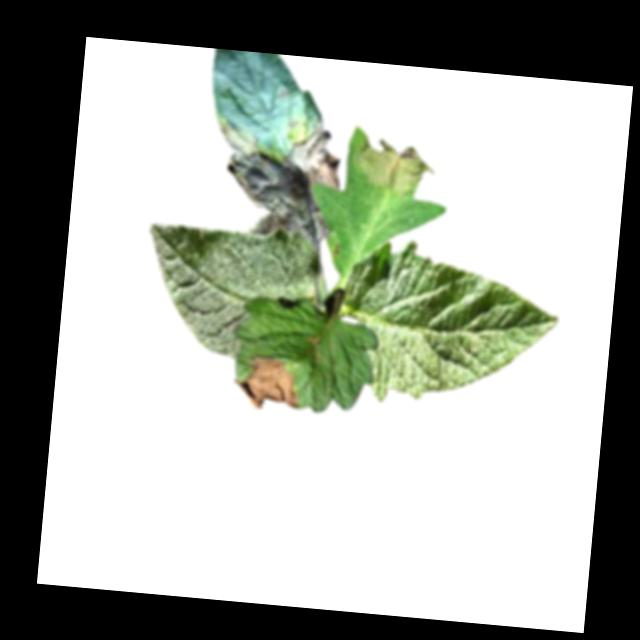Late_blight: (206, 107, 348, 242), (353, 136, 442, 197), (231, 352, 302, 413)
